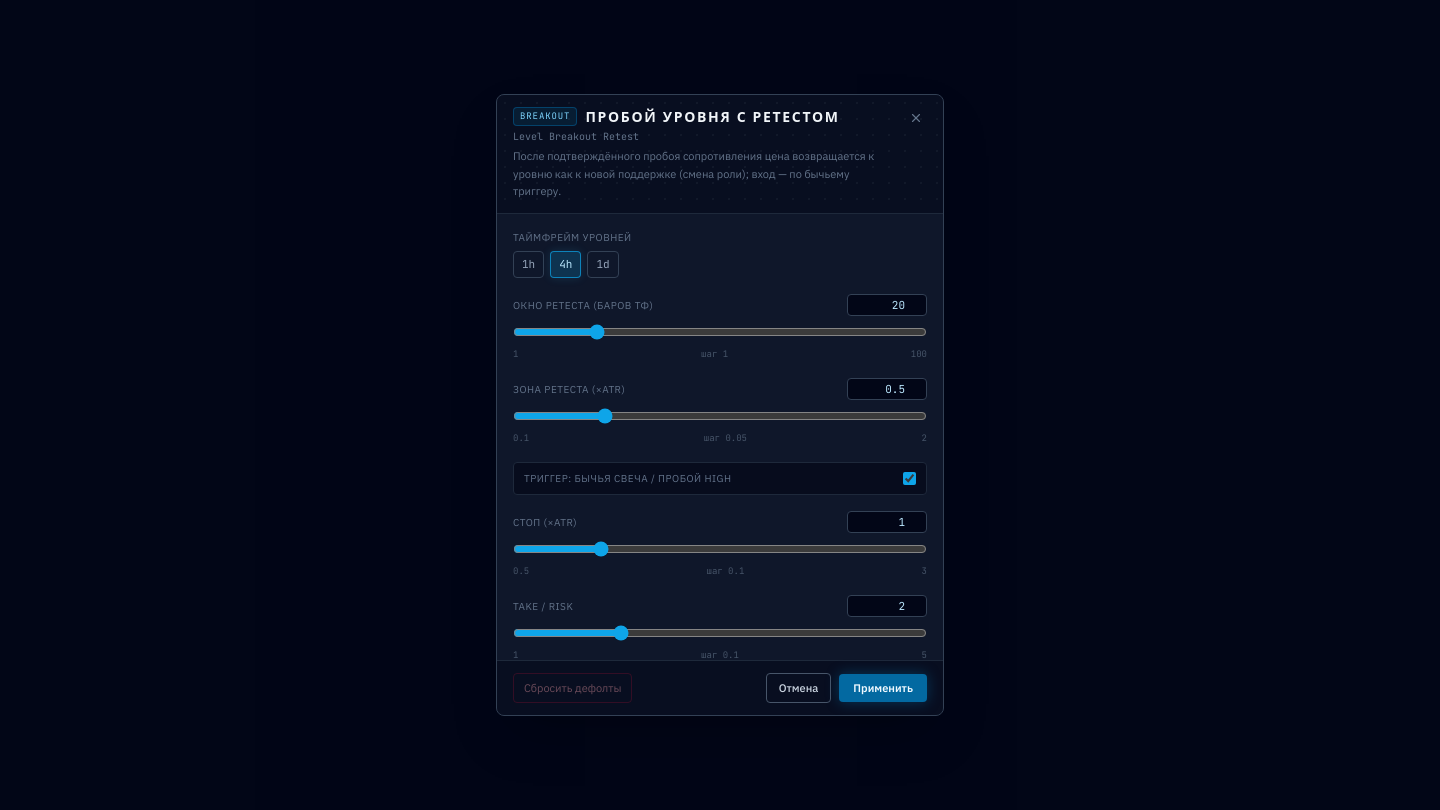
Scenario: PatternSettingsModal · level_breakout_retest › shows a validation error for risk_reward = 0.5
The width and height of the screenshot is (1440, 810).
Step 1. Replace the text in the number field labelled "Take / risk" with "0.5" → (887, 606), box [847,595,927,617]
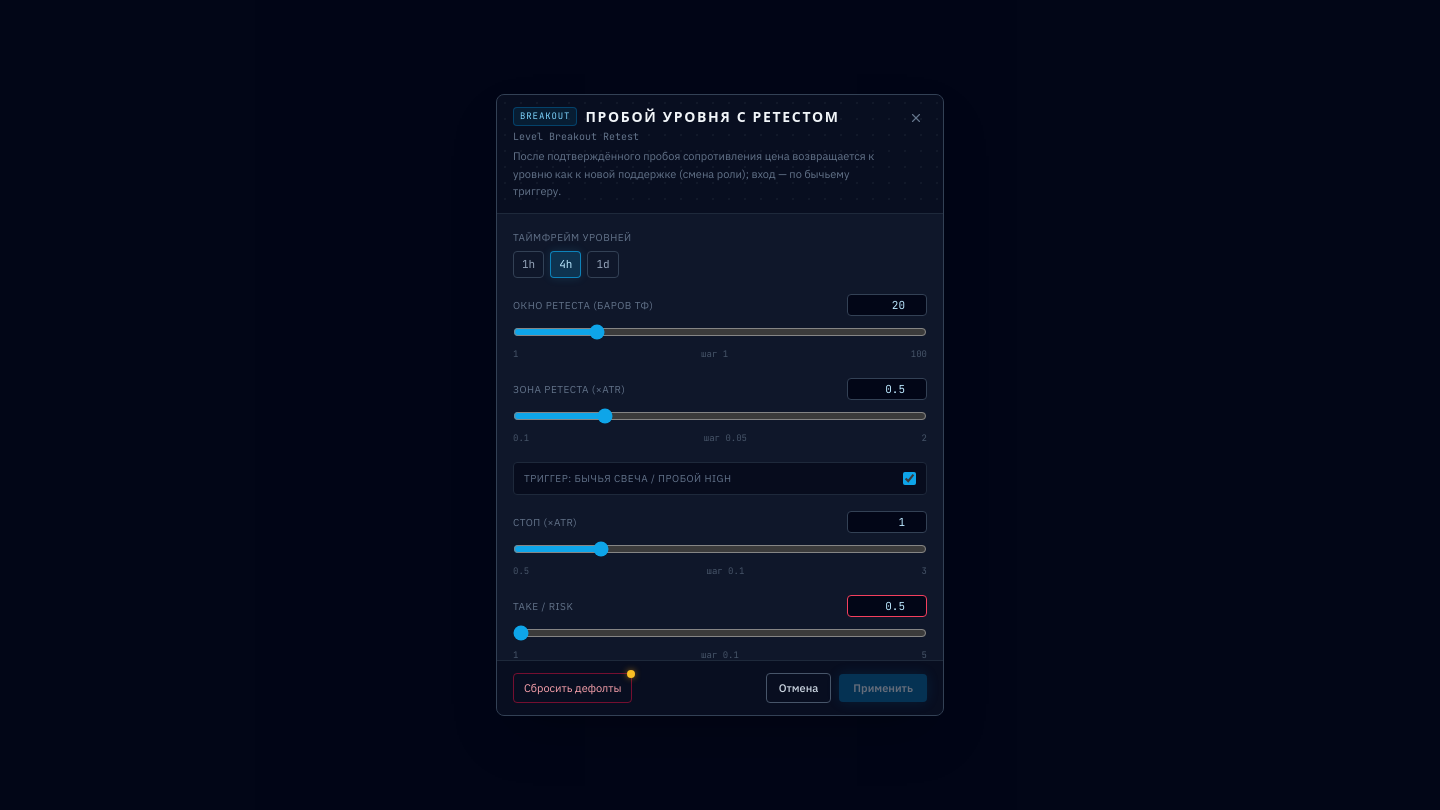
expect the button "Применить" is disabled: met, box [839,674,927,702]
